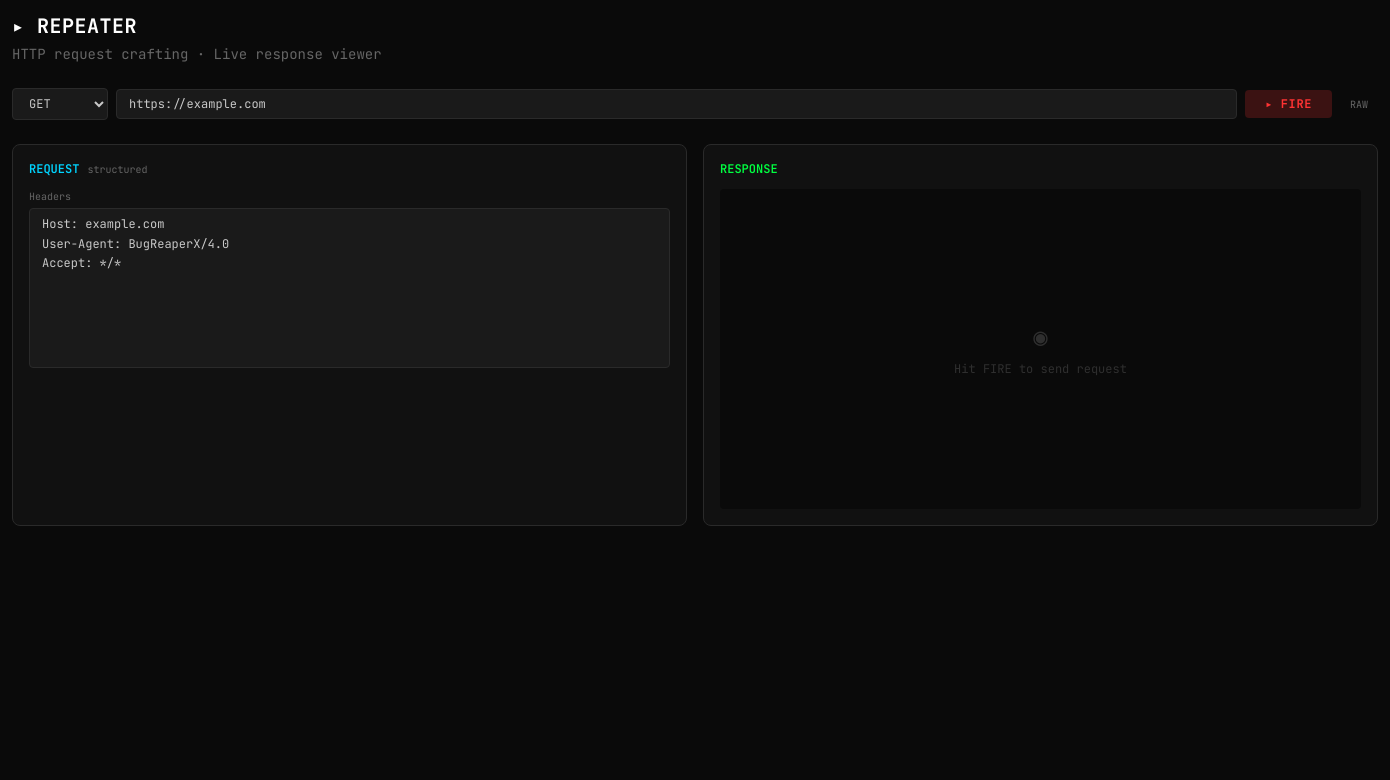
Test case: RepeaterPage › shows body textarea when method is POST
Select "POST" in the dropdown at [60, 104], box [12,88,108,120]
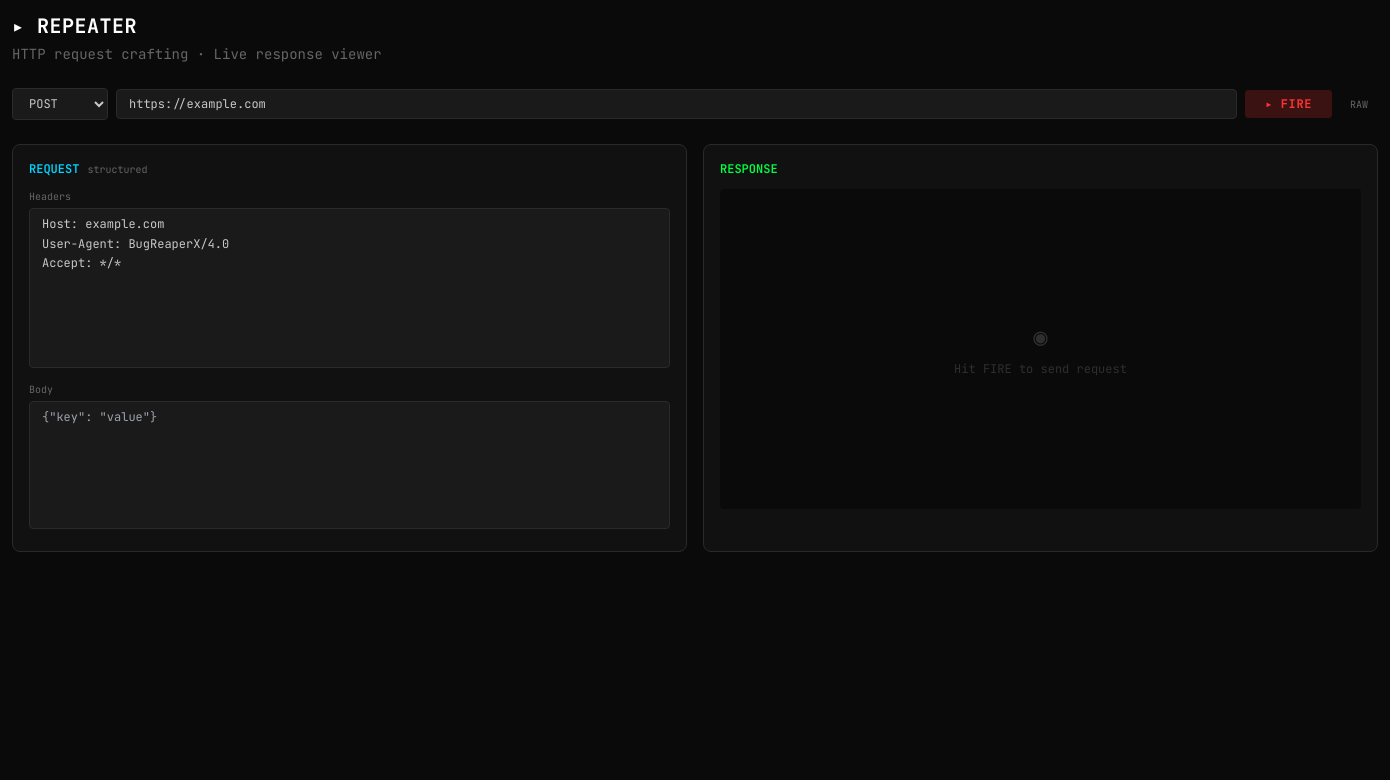
Expected: the text "Body" is shown, [29,383,53,396]
